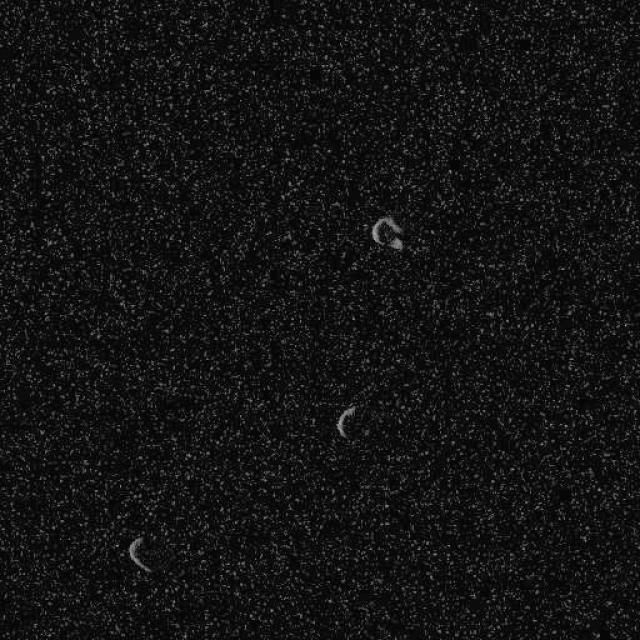D2: (370, 215, 404, 251), (126, 535, 154, 574), (335, 405, 357, 440)
